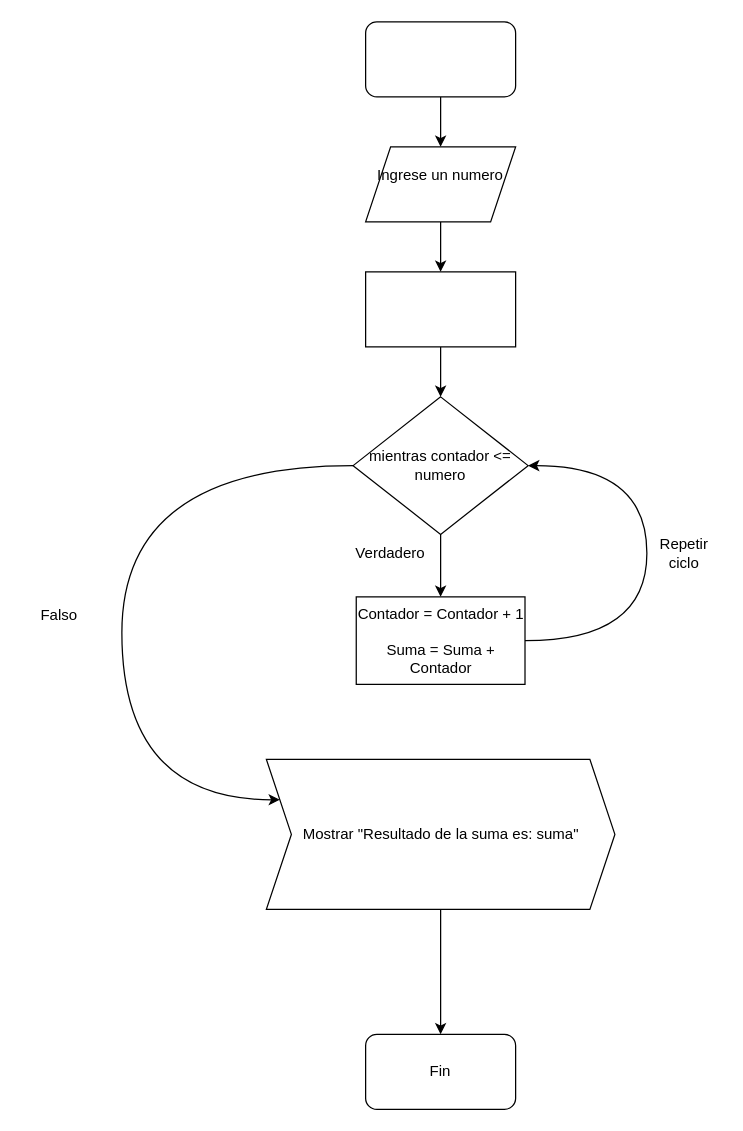
Image size: 743x1131. Some labels were removed from this diagram. The shapes that lost their labels are listed below. From the top down, each one's centre as x and y in pixels, then its label:
(440,59): Inicio
(440,309): Contador = 1 Suma = 0
